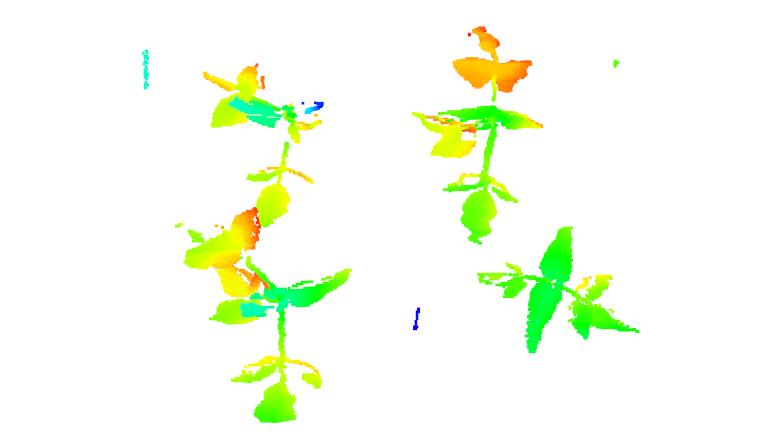mungbean: (178, 209, 353, 427), (410, 23, 533, 247), (197, 60, 331, 225), (482, 224, 640, 354)
